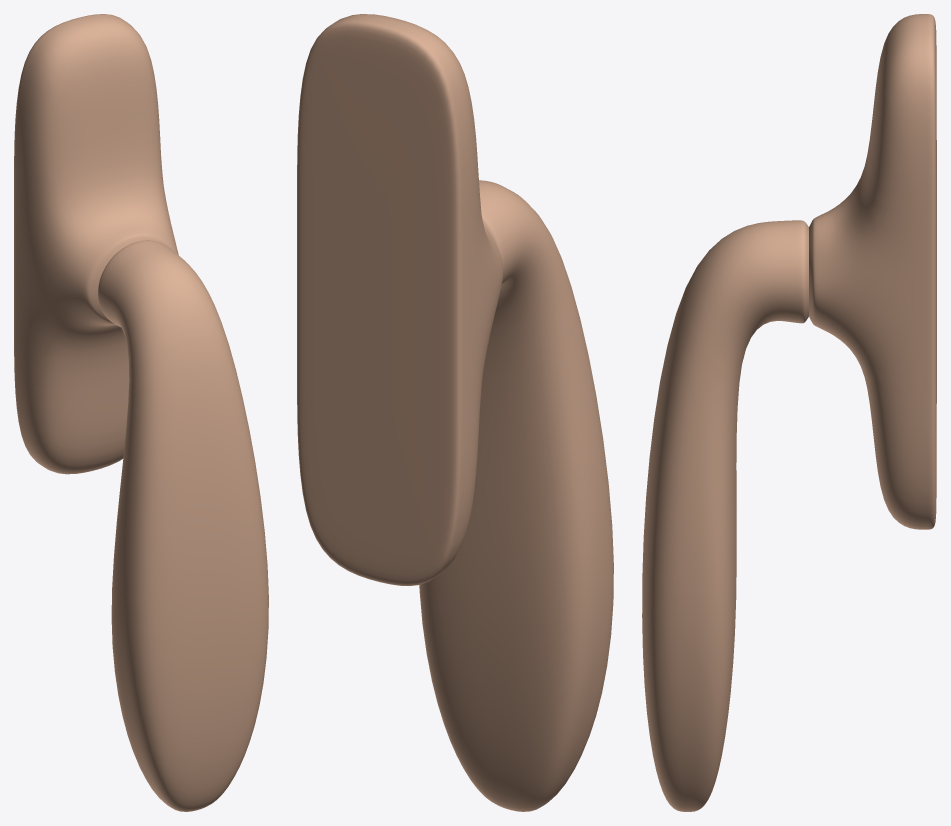
File: Stublina.fbx
3 views of the same model, side by side, from view 1: azimuth 30°, elevation 25°; view 2: azimuth 150°, elevation 25°; view 3: azimuth 270°, elevation 25° (orthographic). The views are drawn at different scales.
Parts seen in each view (by area): view 1: Stublina, Stublina_; view 2: Stublina_, Stublina; view 3: Stublina, Stublina_.
Part boxes in pixels (x1,y1,x2,y2): Stublina: (98, 240, 268, 811); Stublina_: (14, 14, 178, 474); Stublina_: (297, 14, 503, 585); Stublina: (419, 180, 613, 811); Stublina: (642, 220, 808, 811); Stublina_: (809, 14, 936, 529).
Bounding box in the file's own units: 4.21 × 20.48 × 6.99.
